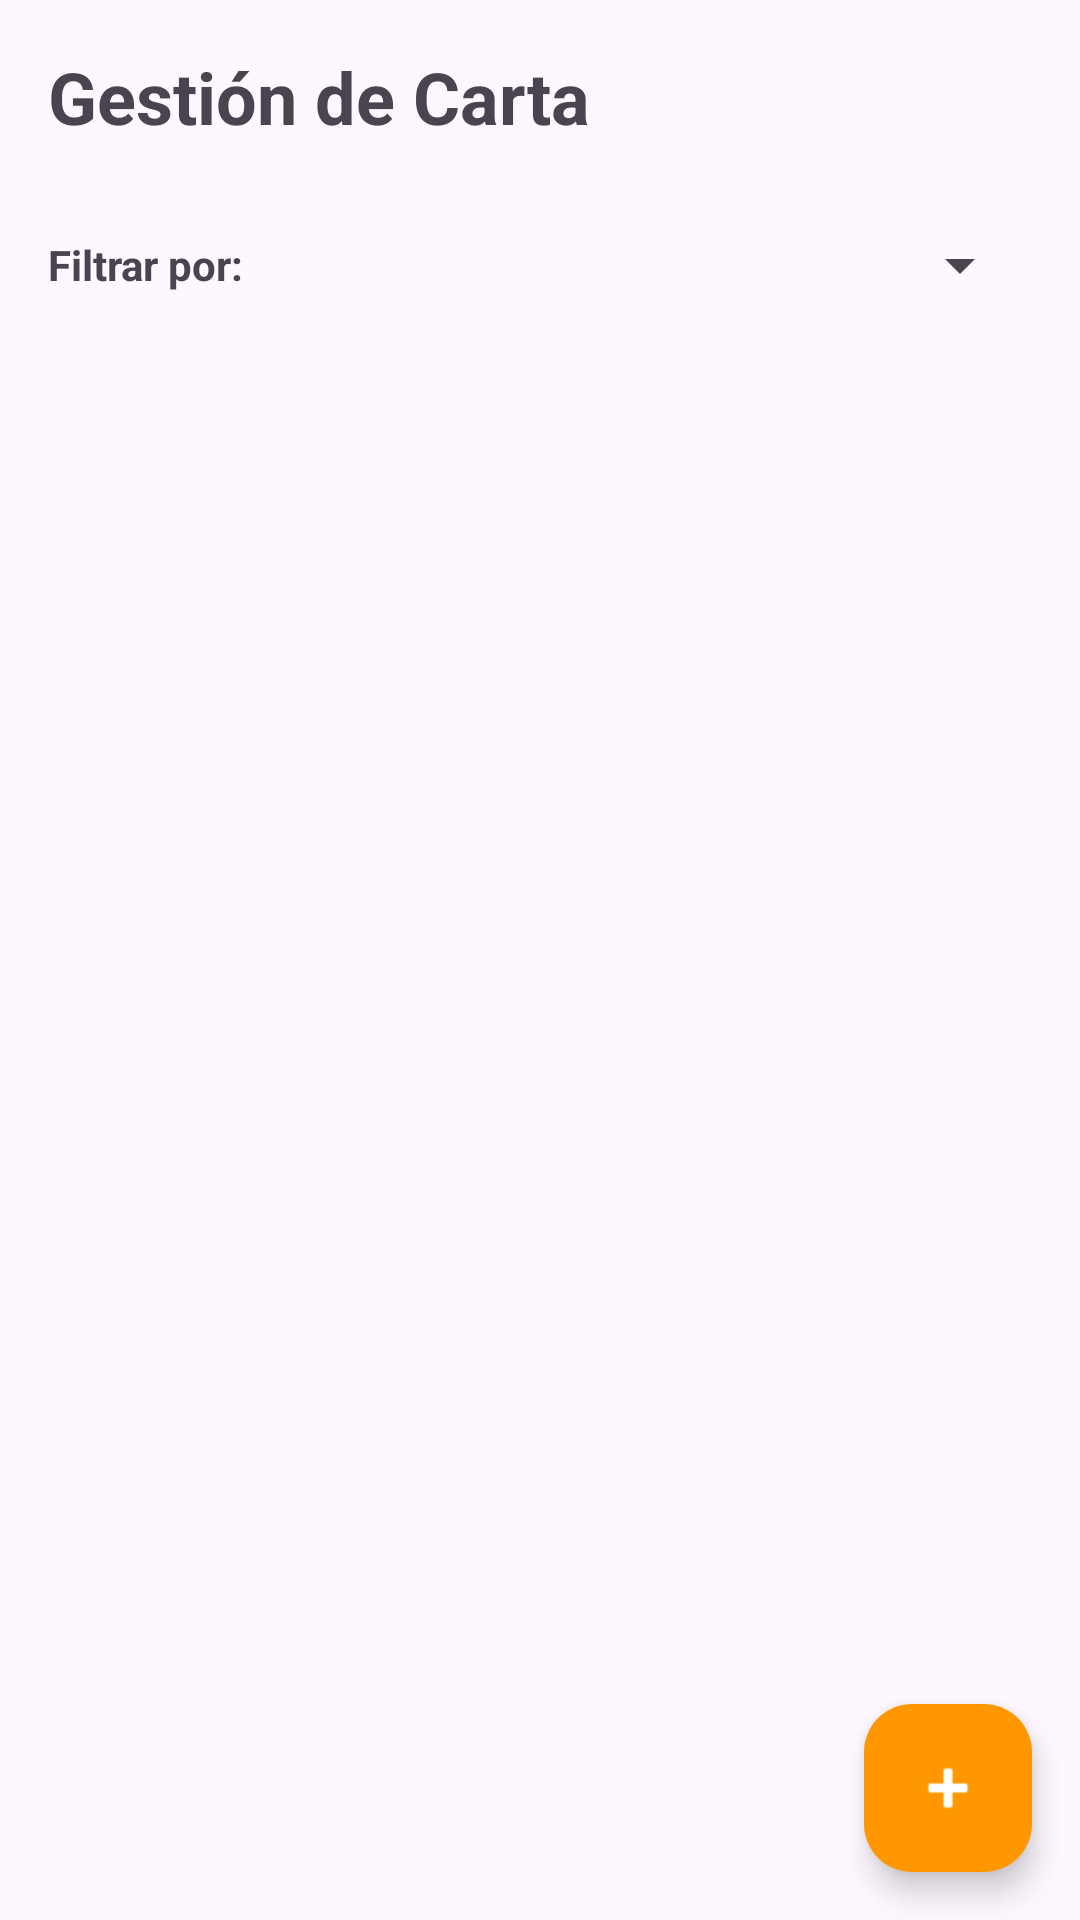

Point at icon controls on the screen. Image size 1080px×1920px, points as (x,y).
add: (948,1788)
